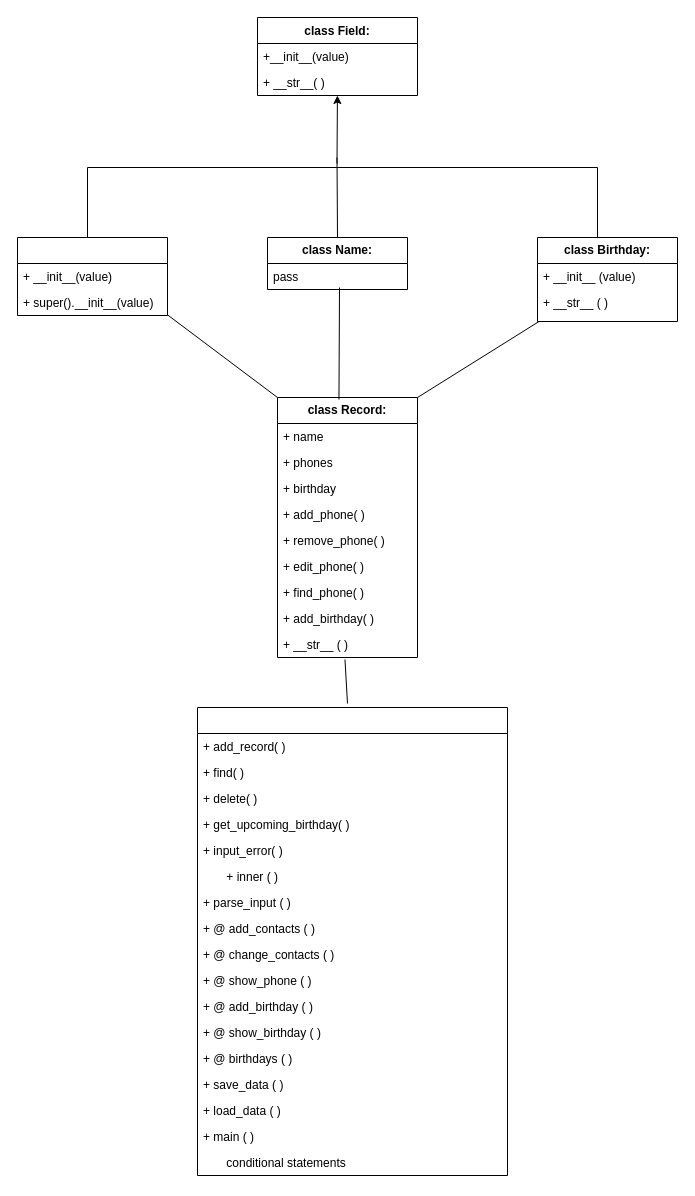
Some shapes in this 695 by 1196 pixel diagram are drawn without their labels. The box of each missing label's shape, as (x1, y1, x2, y2) in pixels:
class AdressBook (UserDict):: (196, 706, 508, 1176)
class Phone:: (16, 236, 168, 316)
